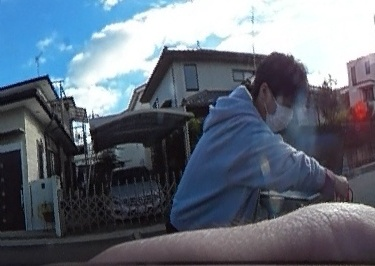person: (167, 53, 320, 228)
